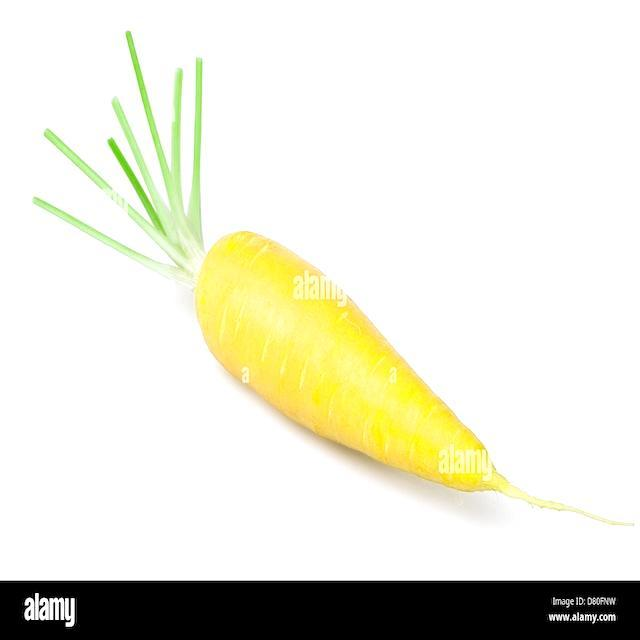carrot: (34, 34, 611, 522)
